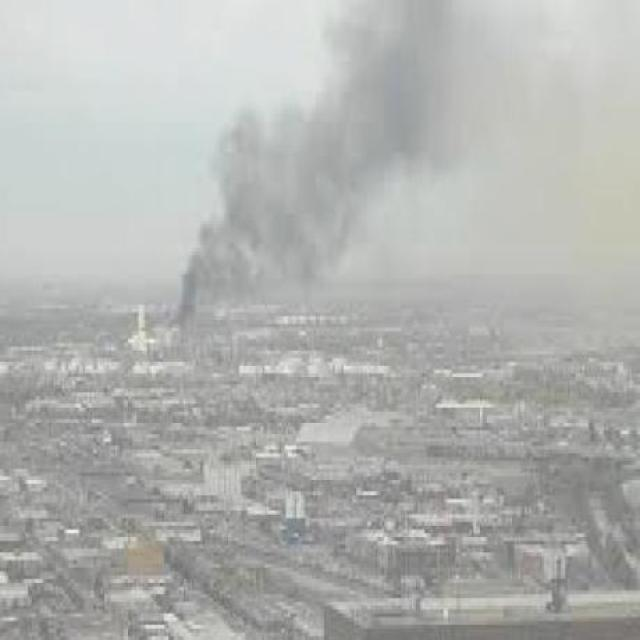Smoke: (178, 6, 541, 308)
